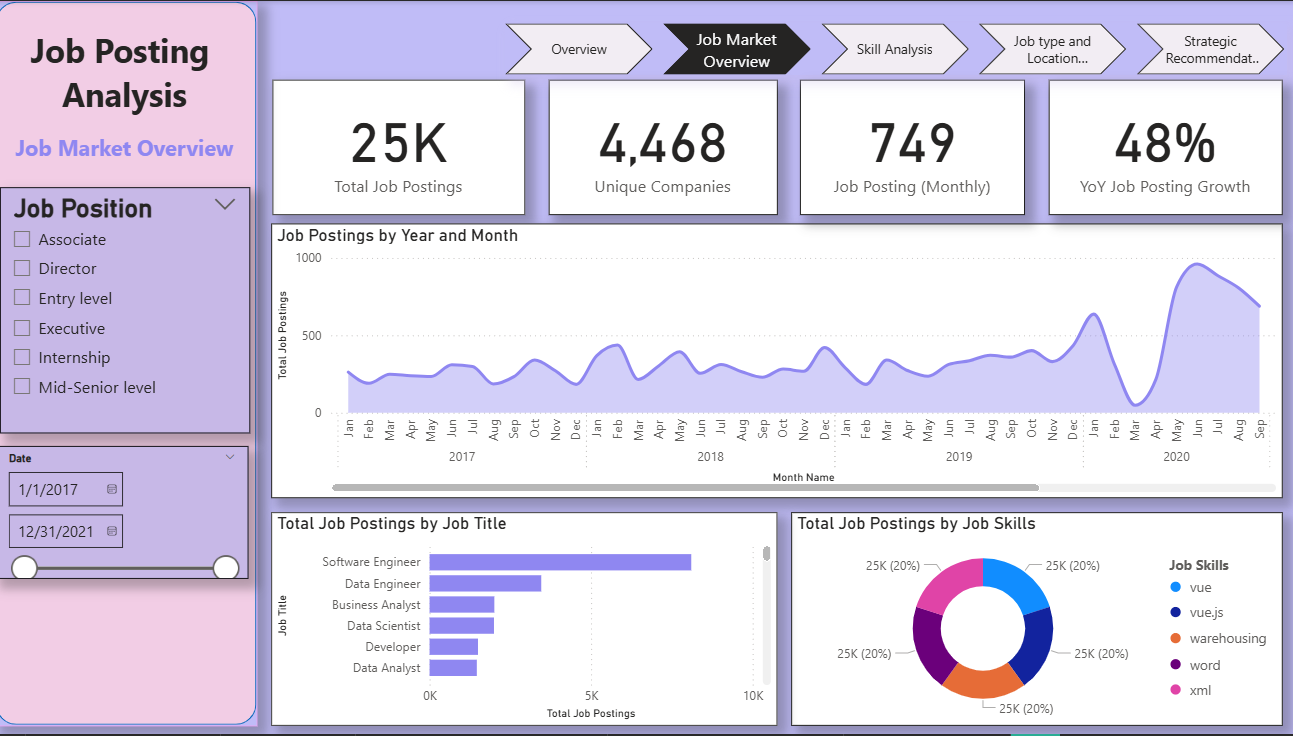

The page's visual inventory and layout, read from the dashboard file:
{"tool":"powerbi","page":{"name":"Job Market Overview ","canvas":[1280,720],"ordinal":1},"visuals":[{"type":"card","fields":{"Values":["_measure.Total Job Postings"]},"box":[272.4,77.3,247.9,132.5],"z":0},{"type":"shape","box":[0,0,257.7,711.7],"z":1000},{"type":"textbox","box":[4.9,22.1,244.2,160.7],"z":2000},{"type":"card","fields":{"Values":["_measure.Unique Companies"]},"box":[543.6,77.3,224.5,132.5],"z":3000},{"type":"areaChart","title":" Job Postings by Year and Month","fields":{"Category":["DimDate.Date.Variation.Date Hierarchy.Year","DimDate.Month Name"],"Y":["_measure.Total Job Postings"]},"box":[271.2,218.4,992.6,269.9],"z":4000},{"type":"donutChart","fields":{"Category":["DimSkill.Job Skills"],"Y":["_measure.Total Job Postings"]},"box":[781.6,501.8,482.2,209.8],"z":5000},{"type":"card","fields":{"Values":["_measure.Job Posting (Monthly)"]},"box":[790.2,77.3,220.9,132.5],"z":6000},{"type":"card","fields":{"Values":["_measure.YoY Job Posting Growth %"]},"box":[1034.4,77.3,229.4,132.5],"z":7000},{"type":"slicer","fields":{"Values":["DimPosition.Job Position Level"]},"box":[4.9,182.8,245.4,241.7],"z":8000},{"type":"slicer","fields":{"Values":["DimDate.Date"]},"box":[0,436.8,249.1,130.1],"z":9000},{"type":"clusteredBarChart","fields":{"Y":["_measure.Total Job Postings"],"Category":["Data.Job Title"]},"box":[271.2,501.8,496.9,209.8],"z":10000},{"type":"pageNavigator","box":[500.6,22.1,768.1,50.3],"z":11000}]}

Visuals, with their boxes in screenshot pixels (x1, y1, x2, y2), scaled from the page's 1280x720 canvas onto the 1293x736 screenshot:
card - _measure.Total Job Postings: [275,79,526,214]
shape: [0,0,260,728]
textbox: [5,23,252,187]
card - _measure.Unique Companies: [549,79,776,214]
" Job Postings by Year and Month" areaChart: [274,223,1277,499]
donutChart - DimSkill.Job Skills x _measure.Total Job Postings: [790,513,1277,727]
card - _measure.Job Posting (Monthly): [798,79,1021,214]
card - _measure.YoY Job Posting Growth %: [1045,79,1277,214]
slicer - DimPosition.Job Position Level: [5,187,253,434]
slicer - DimDate.Date: [0,447,252,579]
clusteredBarChart - _measure.Total Job Postings x Data.Job Title: [274,513,776,727]
pageNavigator: [506,23,1282,74]
